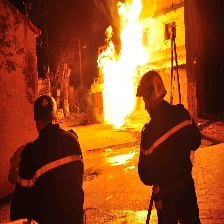fire: (96, 1, 149, 126)
